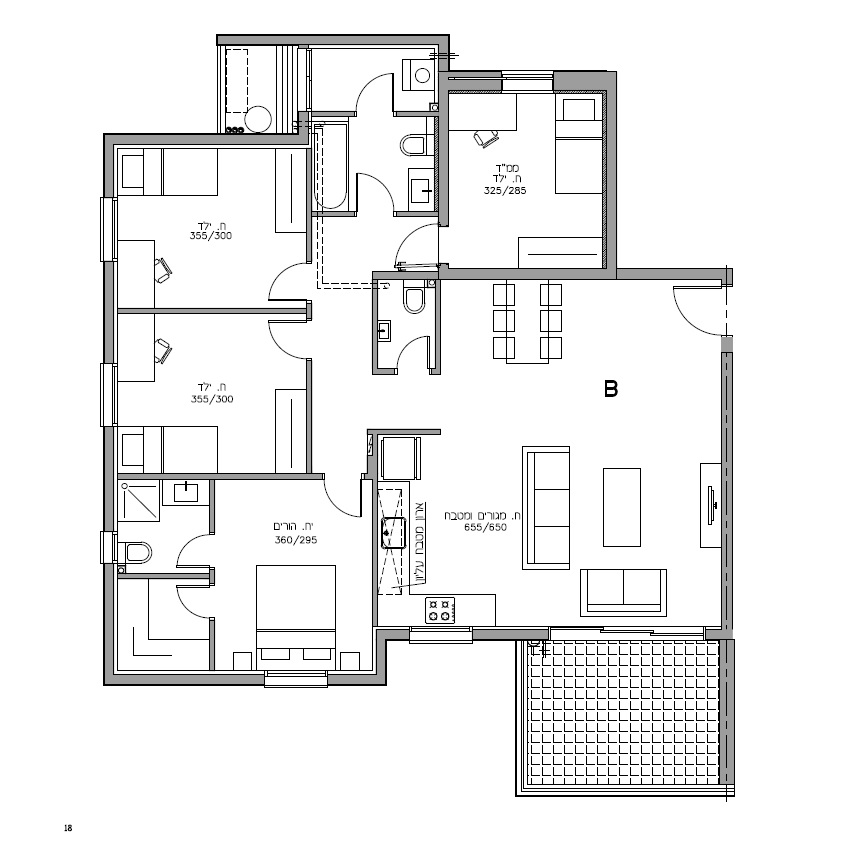wall: (602, 71, 617, 278), (214, 34, 447, 46), (102, 670, 264, 687), (103, 133, 308, 144), (438, 267, 616, 279), (102, 562, 117, 685), (437, 70, 448, 228), (102, 426, 117, 532), (616, 267, 732, 279), (102, 261, 115, 363)
